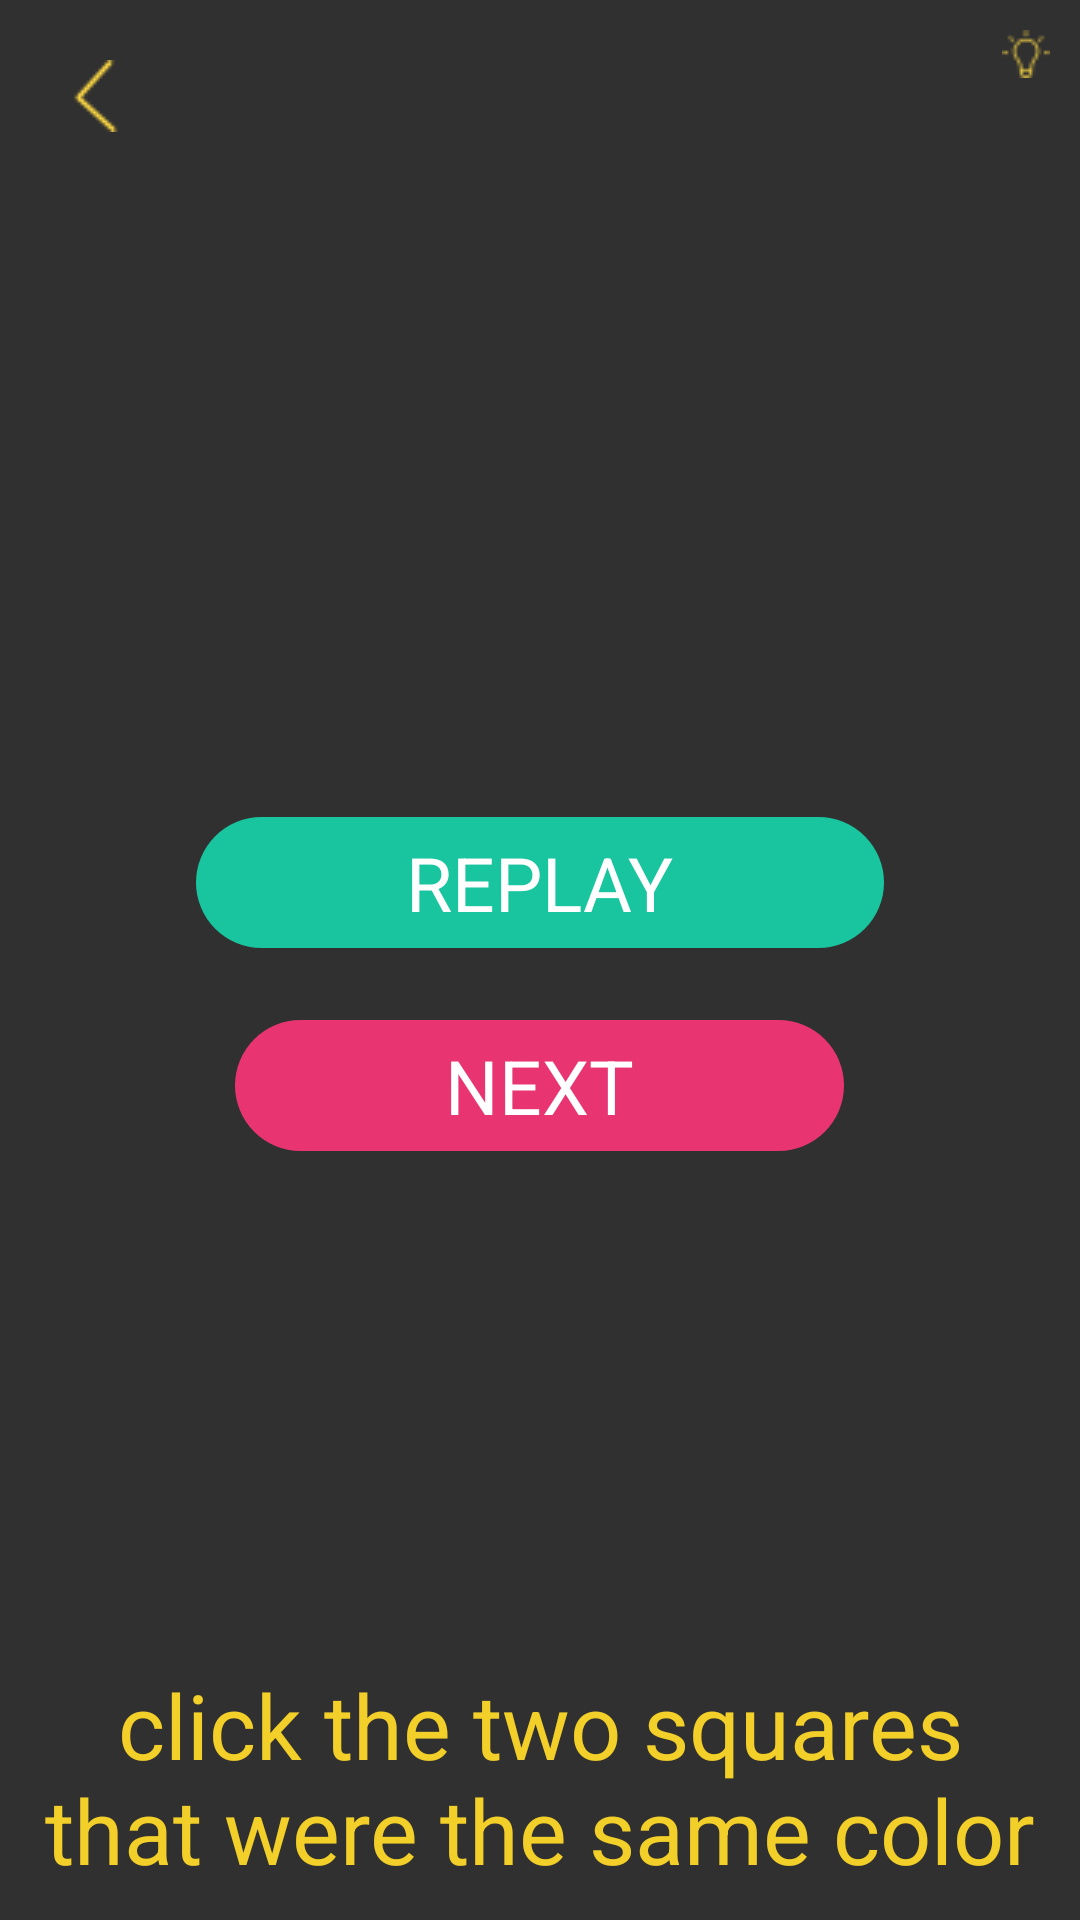

Named icons in this screenshot (1080 × 1920) and their centers, (x=x, y=y):
arrow: (x=95, y=96)
lightbulb: (x=1026, y=54)
